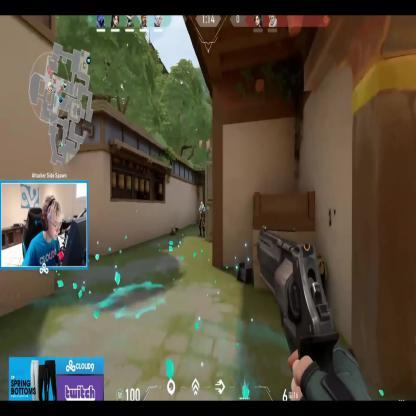enemy: (198, 200, 206, 238)
enemy_head: (201, 202, 203, 207)
